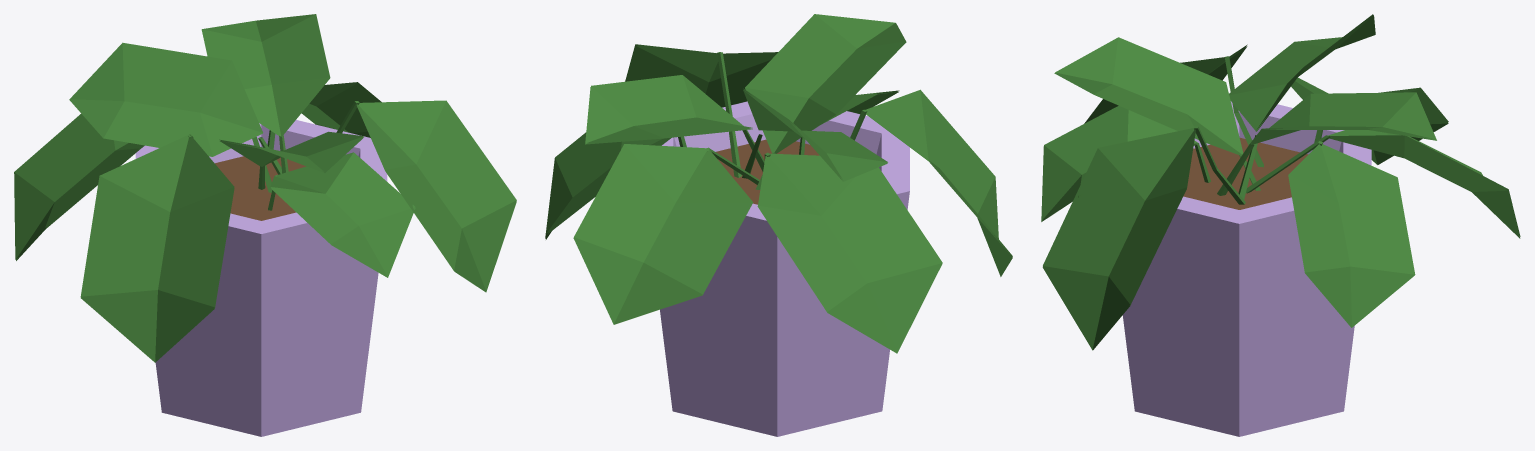
Rendered from Flower_40.fbx.
3 renders of one model, left to right at view 1: azimuth 30°, elevation 25°; view 2: azimuth 150°, elevation 25°; view 3: azimuth 270°, elevation 25°, orthographic. The views are drawn at different scales.
Visible parts, largest first — view 1: Flower_40; view 2: Flower_40; view 3: Flower_40.
Boxes of the visible parts, x1,y1,x2,y2 form: Flower_40: (14, 14, 516, 436); Flower_40: (545, 14, 1012, 436); Flower_40: (1041, 14, 1520, 436).
Bounding box in the file's own units: 60.54 × 59 × 45.27.
